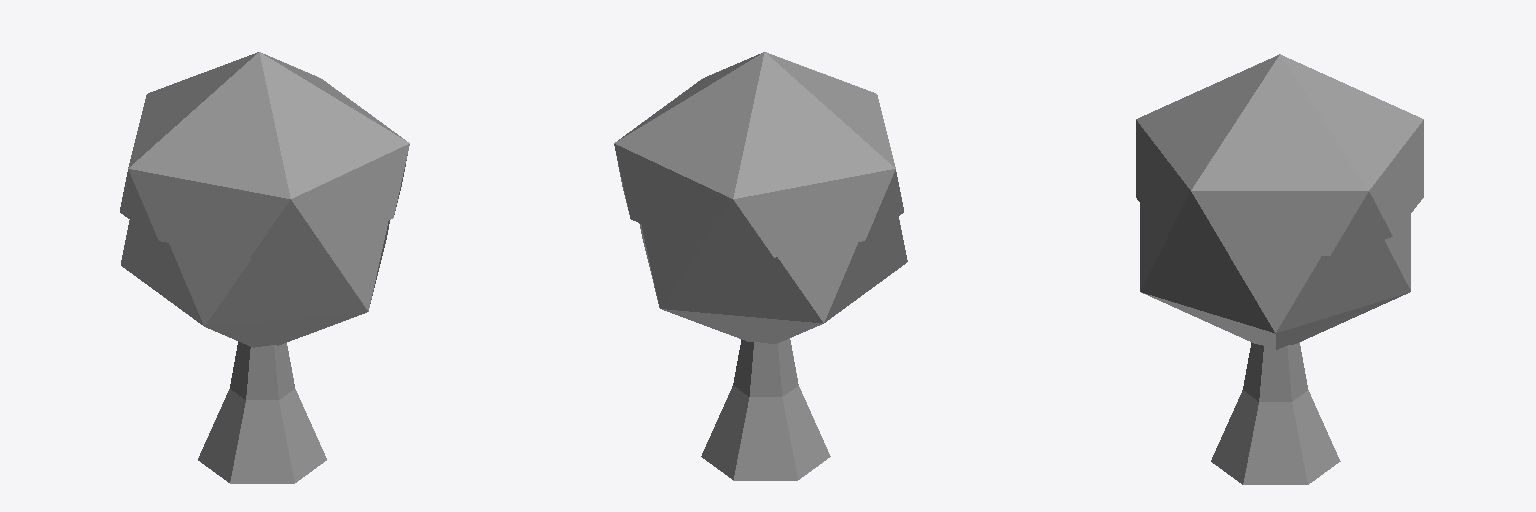
File: SmallBush2.obj
3 views of the same model, side by side, from view 1: azimuth 30°, elevation 25°; view 2: azimuth 150°, elevation 25°; view 3: azimuth 270°, elevation 25° (orthographic).
Parts seen in each view (by area): view 1: Cylinder_Cylinder.005; view 2: Cylinder_Cylinder.005; view 3: Cylinder_Cylinder.005.
Part boxes in pixels (bbox=[...]): Cylinder_Cylinder.005: bbox=[120, 52, 409, 483]; Cylinder_Cylinder.005: bbox=[614, 52, 907, 480]; Cylinder_Cylinder.005: bbox=[1136, 54, 1423, 484].
Bounding box in the file's own units: 0.4466 × 0.6784 × 0.4358.